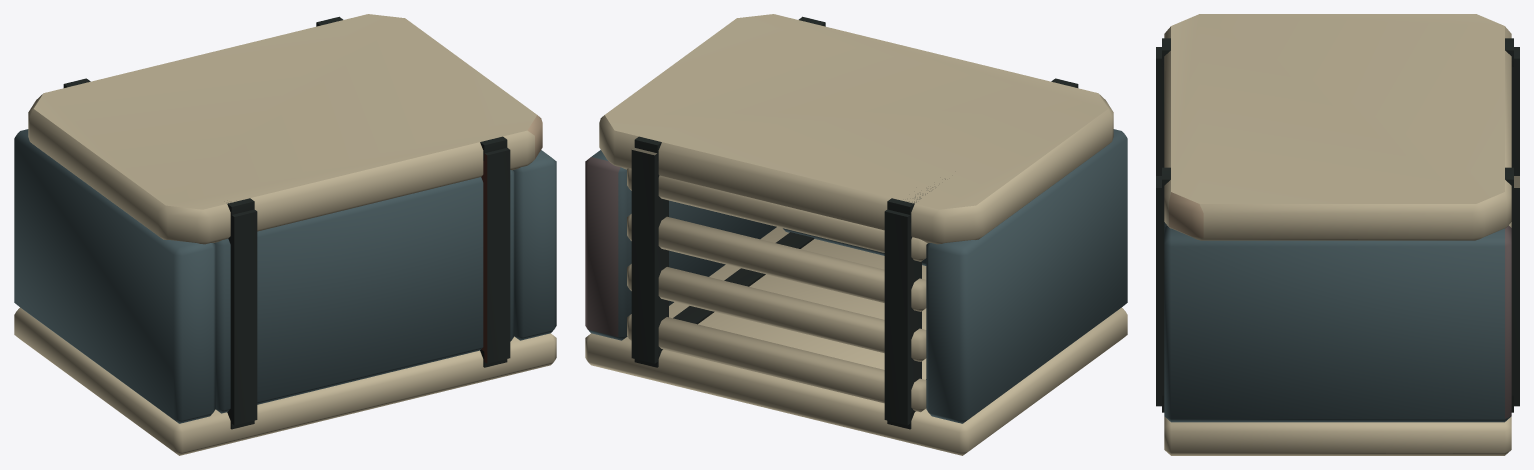
The model's file is prop_crate.glb.
The picture shows the model from 3 angles, left to right: view 1: azimuth 30°, elevation 25°; view 2: azimuth 150°, elevation 25°; view 3: azimuth 270°, elevation 25°; orthographic projection. The views are drawn at different scales.
Visible parts, largest first — view 1: Surface; view 2: Surface; view 3: Surface.
Part boxes in pixels (<box>): Surface: <box>14,14,556,455</box>; Surface: <box>585,14,1127,455</box>; Surface: <box>1156,14,1519,455</box>.
Size of the model in its own units: 2 by 1.2 by 1.57.
